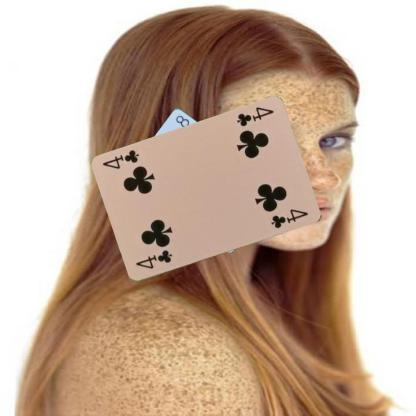4c: (234, 105, 275, 128), (132, 248, 174, 270)
